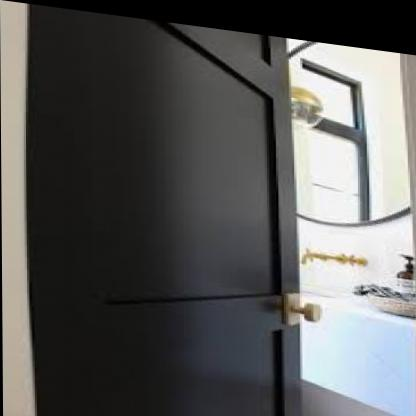door: (27, 12, 314, 415)
